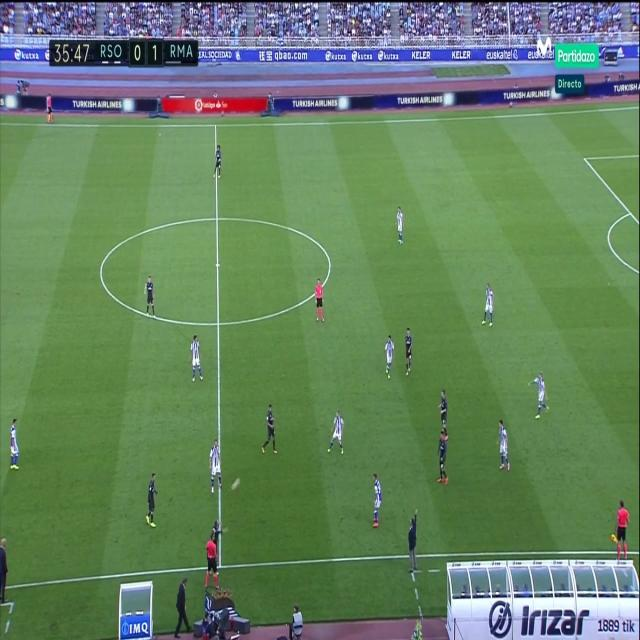Ball: (229, 473, 242, 495)
Player: (526, 371, 552, 422), (495, 418, 513, 478), (325, 408, 346, 459), (260, 400, 279, 456), (208, 436, 225, 496), (144, 469, 160, 532), (436, 428, 450, 490), (189, 332, 205, 384), (480, 282, 496, 332), (8, 416, 21, 476), (371, 471, 384, 531), (437, 387, 450, 443), (382, 331, 396, 382), (142, 274, 157, 320), (212, 518, 227, 550), (212, 142, 223, 183), (396, 204, 406, 249), (405, 328, 413, 379)
Referee: (614, 497, 632, 559), (203, 532, 220, 592), (312, 276, 327, 326)
